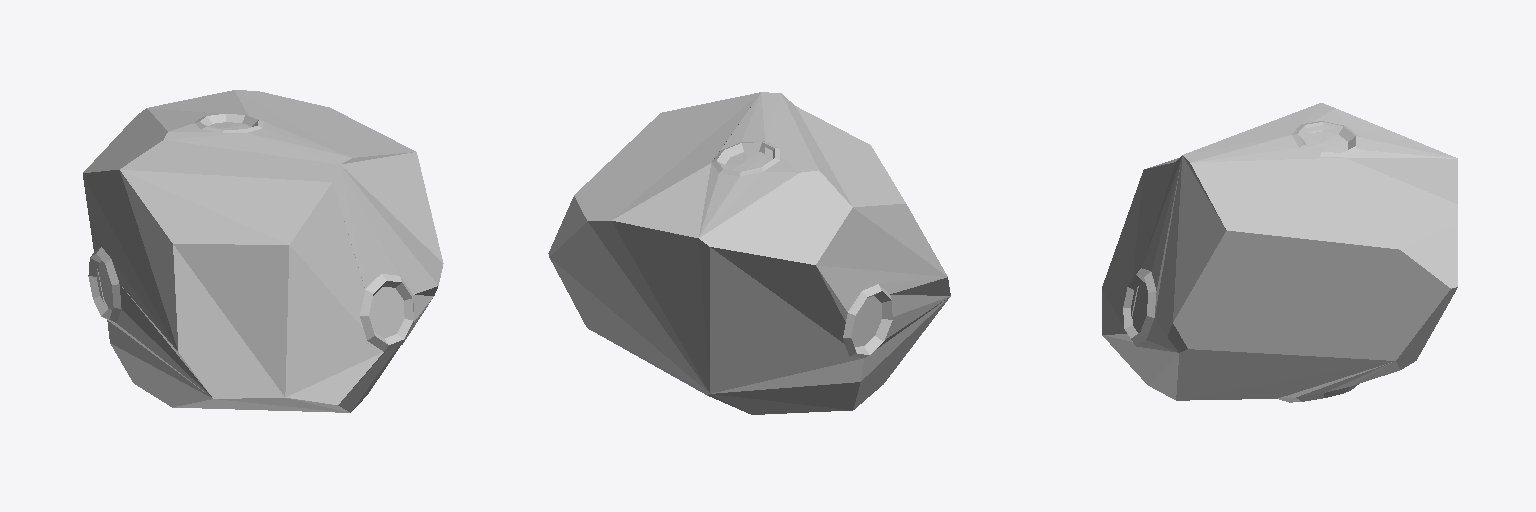
File: Asteorid1.obj
3 renders of one model, left to right at view 1: azimuth 30°, elevation 25°; view 2: azimuth 150°, elevation 25°; view 3: azimuth 270°, elevation 25°, orthographic.
Parts seen in each view (by area): view 1: Asteorid_1_Würfel.002; view 2: Asteorid_1_Würfel.002; view 3: Asteorid_1_Würfel.002.
Boxes of the visible parts, <box> form: Asteorid_1_Würfel.002: <box>83,90,443,412</box>; Asteorid_1_Würfel.002: <box>548,92,950,414</box>; Asteorid_1_Würfel.002: <box>1102,103,1457,402</box>.
Bounding box in the file's own units: 7 × 6.07 × 8.07.